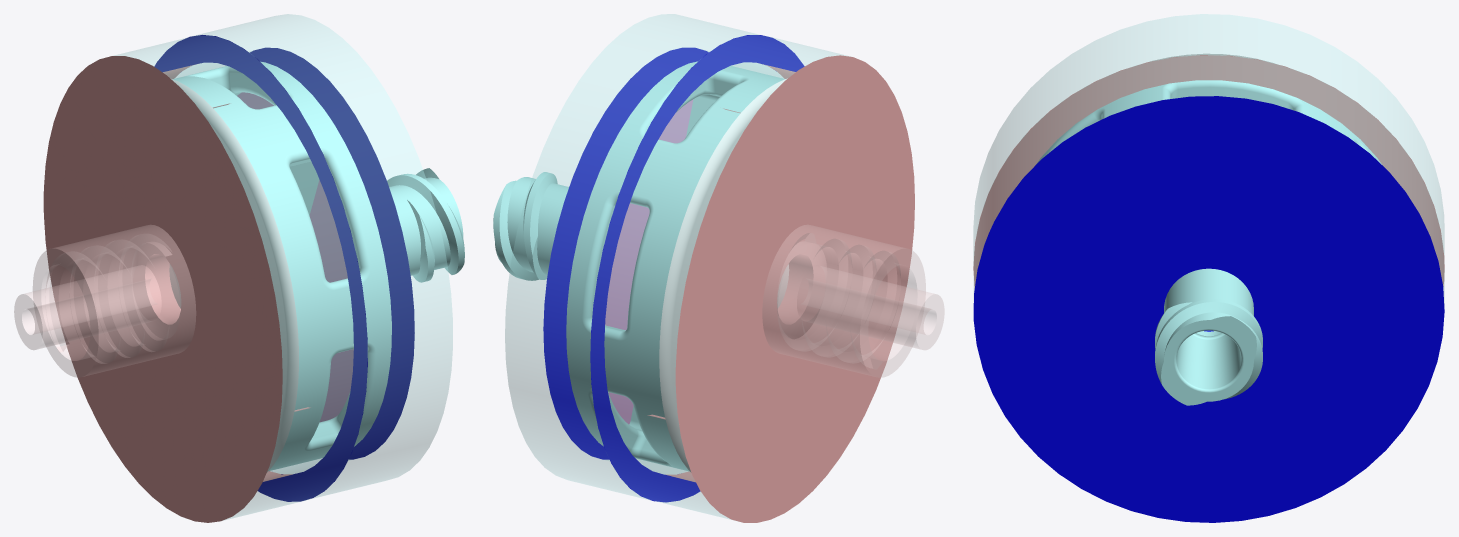
The model's file is inline_neoair.glb.
3 renders of one model, left to right at view 1: azimuth 30°, elevation 25°; view 2: azimuth 150°, elevation 25°; view 3: azimuth 270°, elevation 25°, orthographic.
Visible parts, largest first — view 1: Final rough assembly; view 2: Final rough assembly; view 3: Final rough assembly.
Boxes of the visible parts, x1,y1,x2,y2 form: Final rough assembly: (14, 14, 464, 522); Final rough assembly: (493, 14, 944, 522); Final rough assembly: (973, 14, 1444, 522).
Size of the model in its own units: 0.0338 by 0.034 by 0.034.
